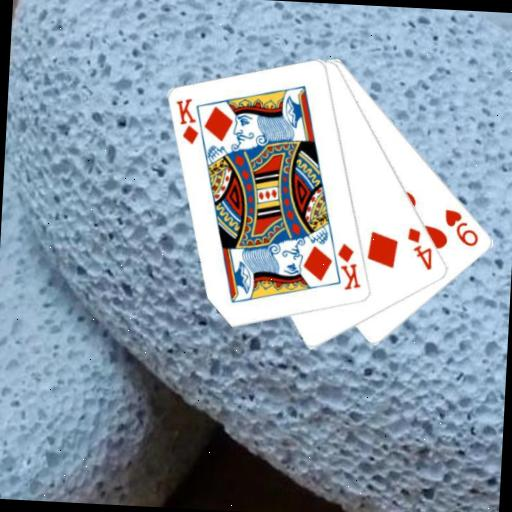4D: (403, 224, 437, 273)
9H: (441, 205, 483, 248)
KD: (332, 240, 365, 293), (172, 95, 203, 146)
